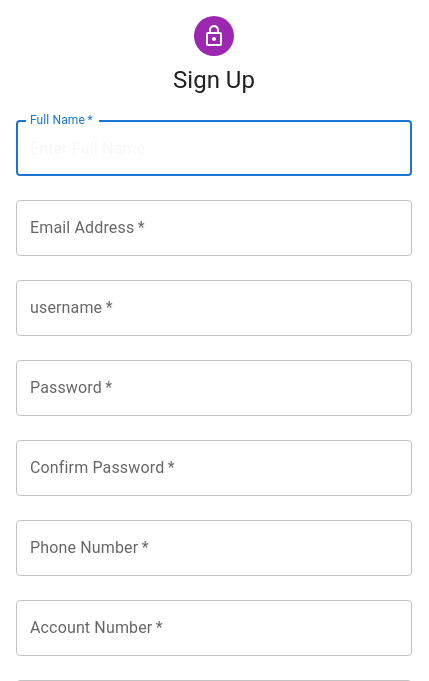
Test: SignUpPage component › Displays an error for an invalid account number length
Step 1. Type "1234567890123" into the field with placeholder "1234567890121111" → point(214, 628), box top-left (16, 600), bottom-right (412, 656)
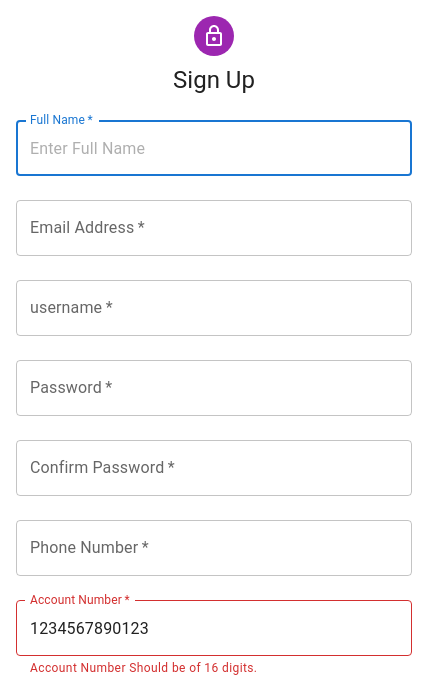
Expected: the text "Account Number Should be of 16 digits." is shown, top-left (30, 661), bottom-right (257, 675)
